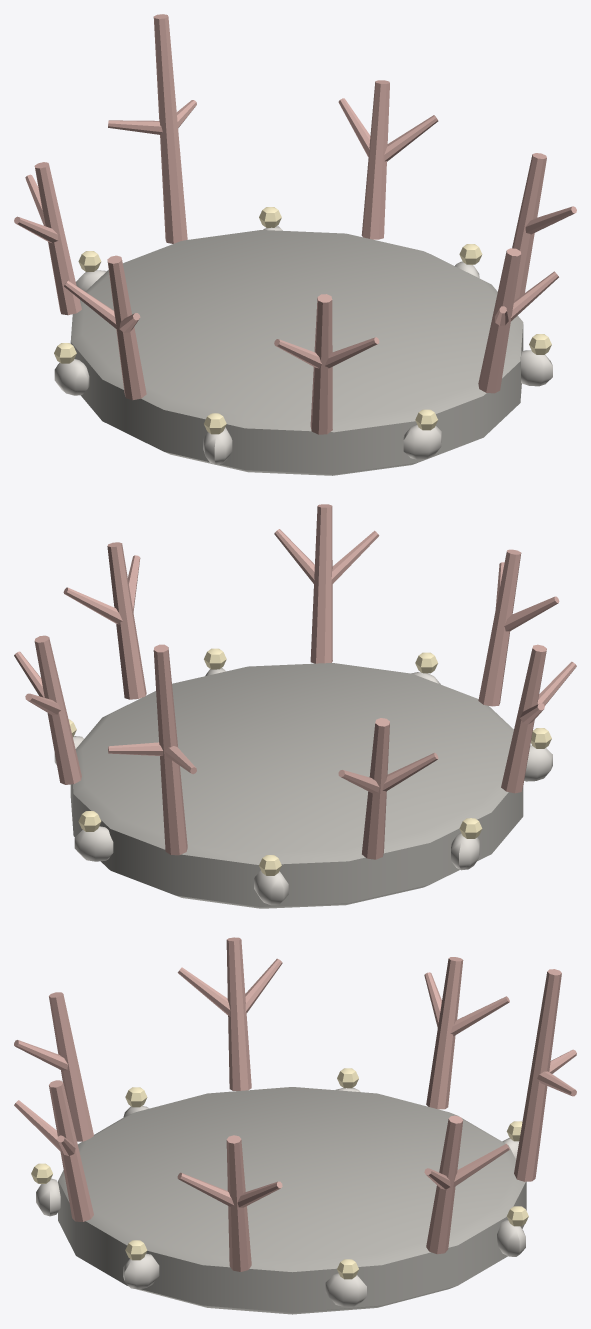
File: trophy_coral_crown.gltf
The picture shows the model from 3 angles, top to bottom: view 1: azimuth 30°, elevation 25°; view 2: azimuth 150°, elevation 25°; view 3: azimuth 270°, elevation 25°; orthographic projection. The views are drawn at different scales.
Parts seen in each view (by area): view 1: Body; view 2: Body; view 3: Body.
Boxes of the visible parts, x1,y1,x2,y2 form: Body: (14, 14, 576, 475); Body: (14, 504, 576, 908); Body: (14, 937, 576, 1314).
Size of the model in its own units: 0.2888 by 0.1525 by 0.3037.
